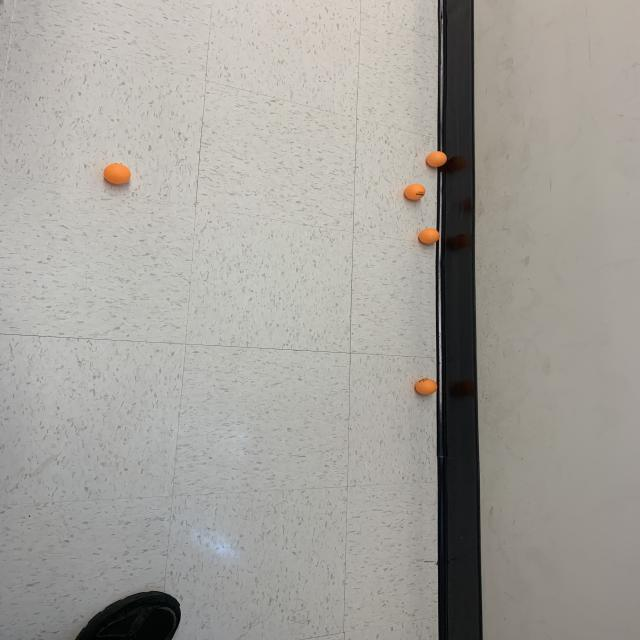ping-pong-ball: (99, 160, 133, 188), (412, 375, 439, 398), (416, 225, 442, 247), (424, 149, 449, 170), (403, 182, 428, 202)
